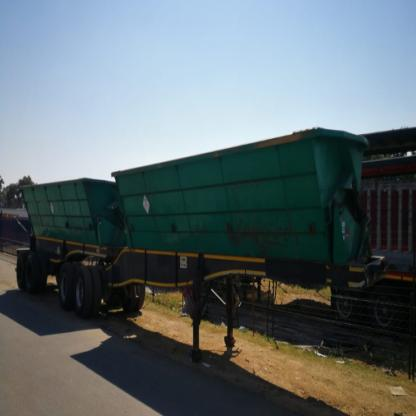dump_truck: (10, 107, 320, 390)
